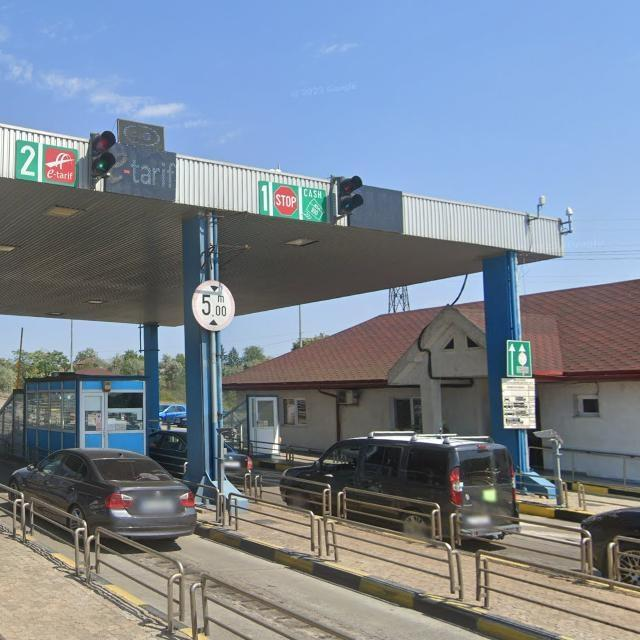prio_stop: (275, 185, 298, 216)
